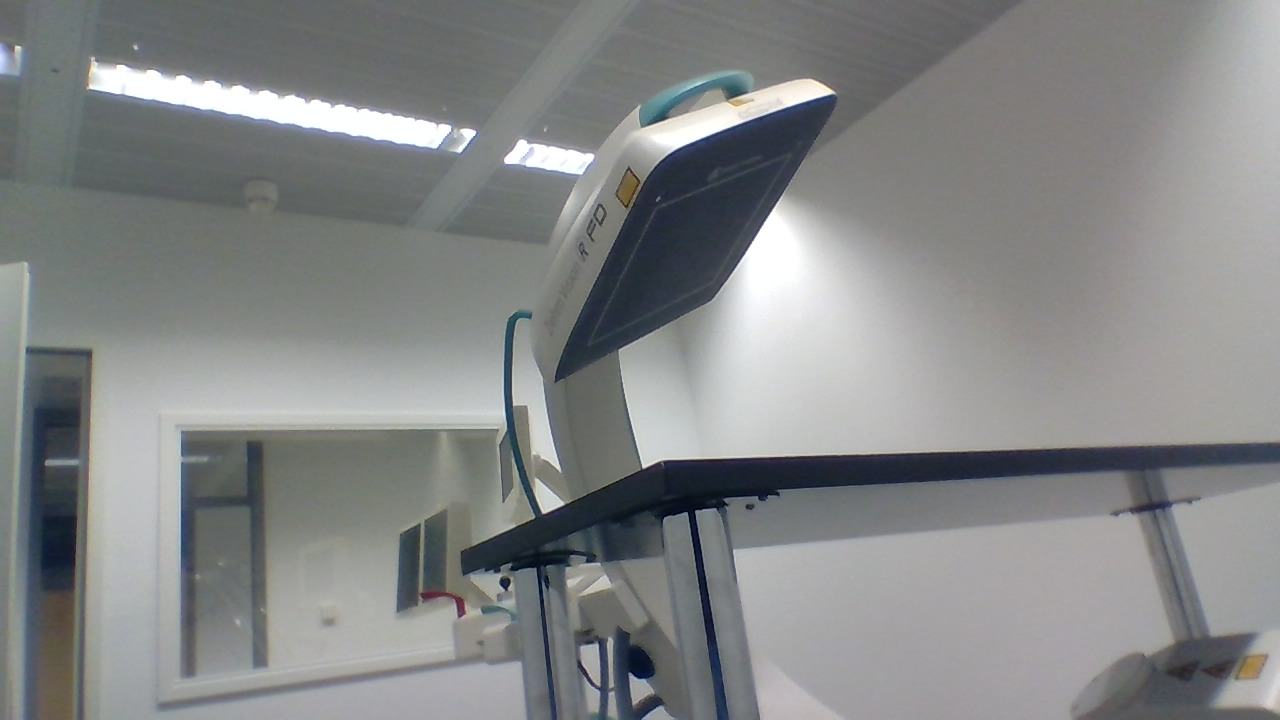carmSCREEN: (492, 401, 534, 521)
carmUP: (530, 74, 841, 386)
